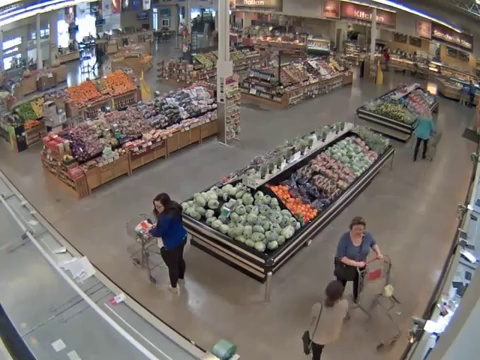face: (352, 221, 365, 237), (154, 200, 166, 214)
